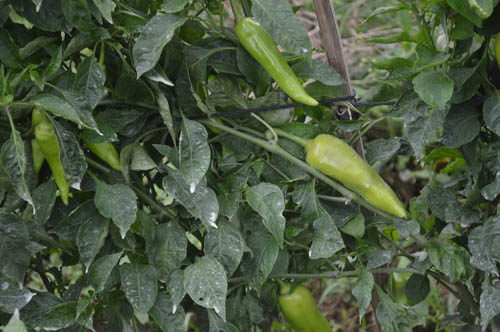ChiliPepper: (304, 135, 411, 223), (237, 20, 318, 106), (35, 128, 75, 204), (279, 287, 327, 330), (81, 134, 127, 170)
